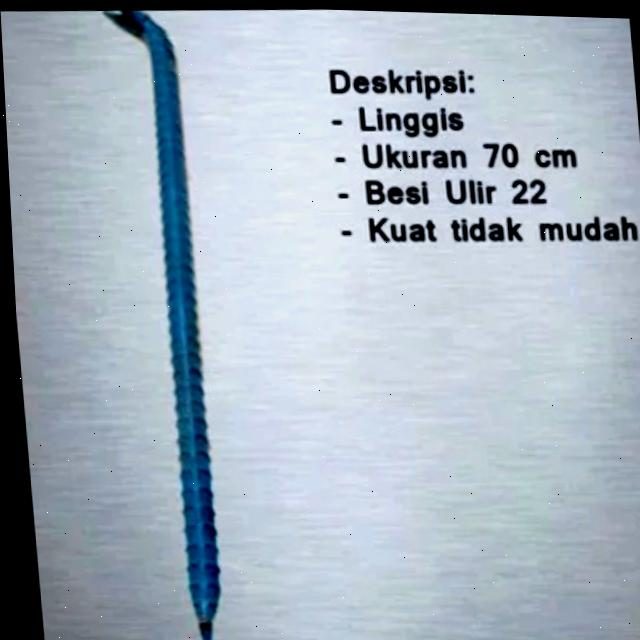crow bar: (107, 9, 216, 640)
